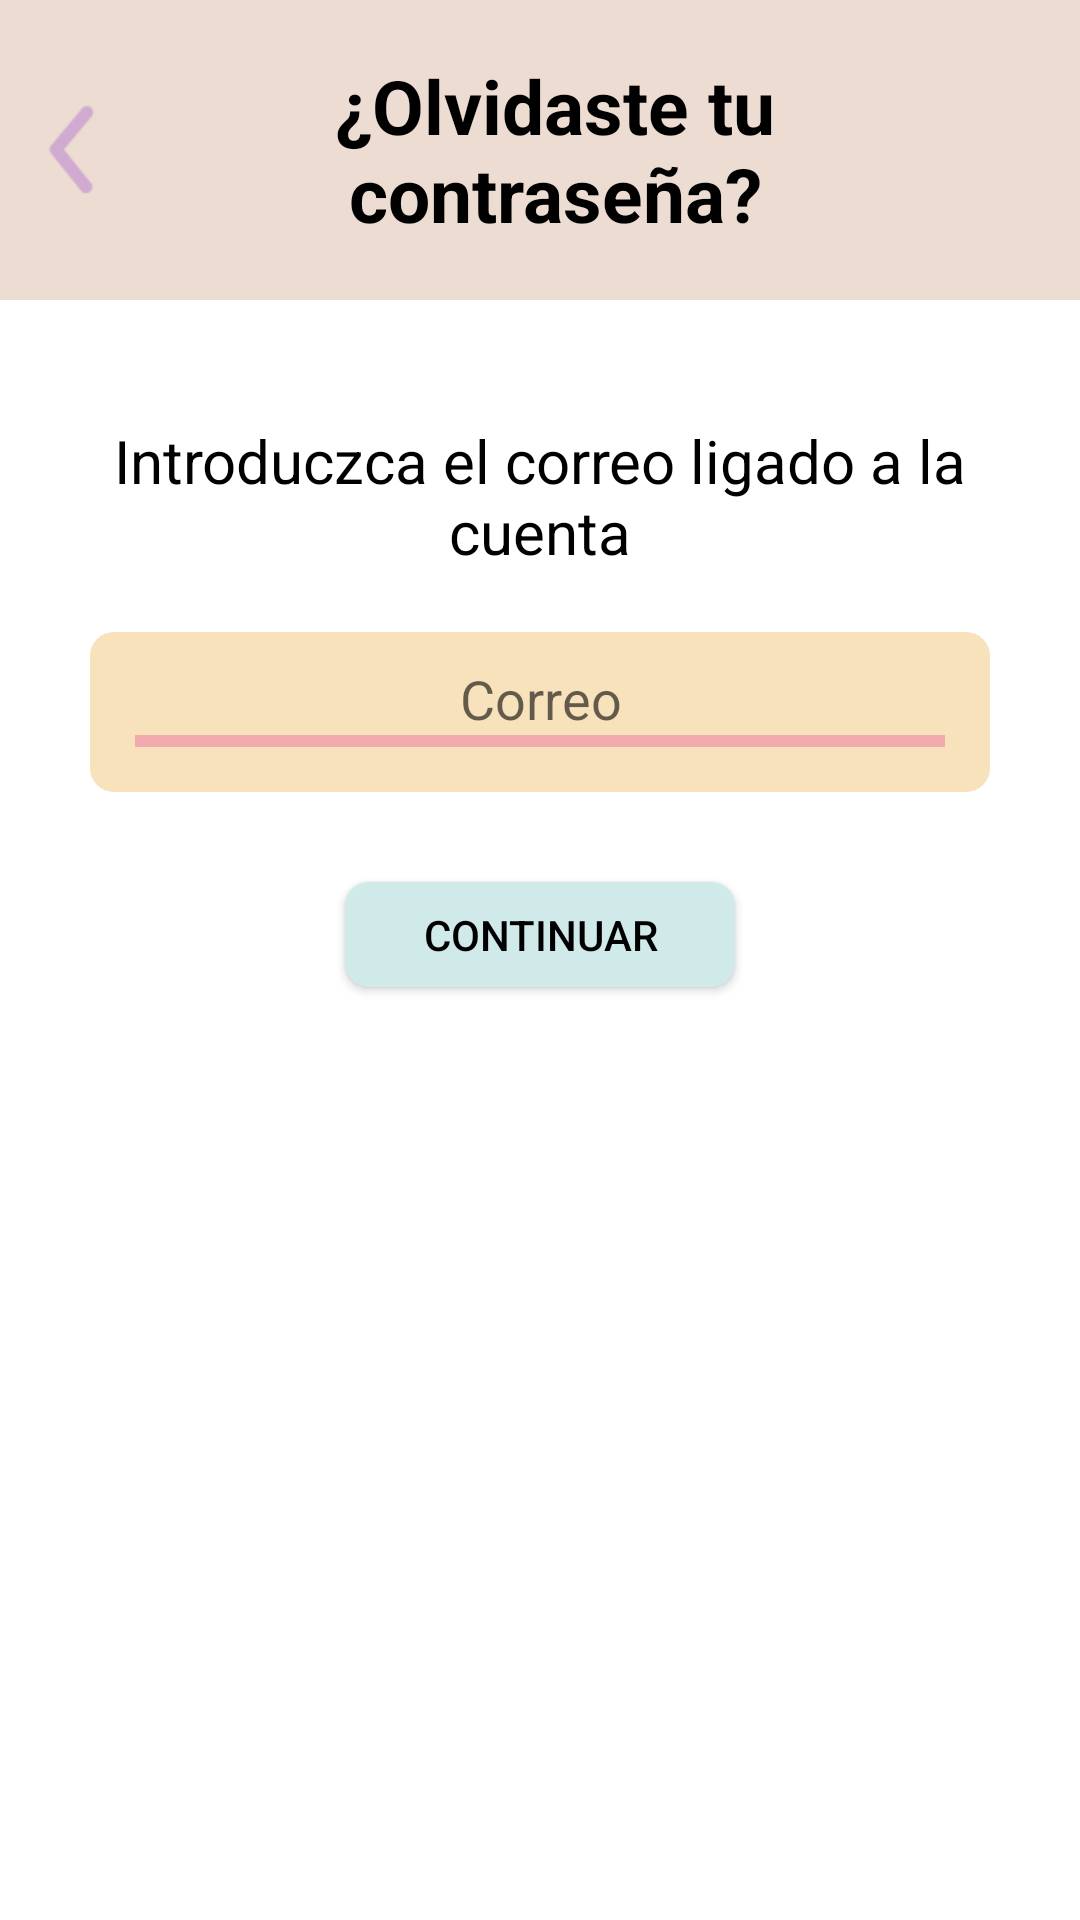

Screen size 1080w x 1920h. Icon name, then its box in pixels as Rect(x1, y1, x2, y2):
back: Rect(50, 106, 93, 193)
